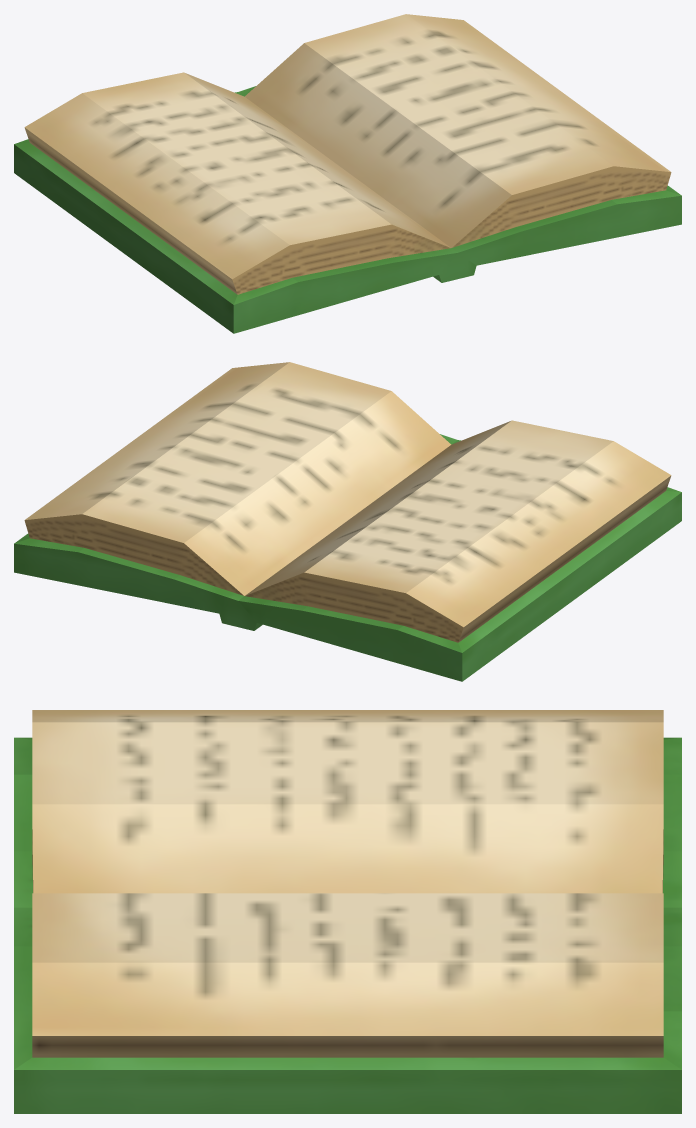
Rendered from book.fbx.
3 renders of one model, top to bottom at view 1: azimuth 30°, elevation 25°; view 2: azimuth 150°, elevation 25°; view 3: azimuth 270°, elevation 25°, orthographic. The views are drawn at different scales.
Parts seen in each view (by area): view 1: Book; view 2: Book; view 3: Book.
Part boxes in pixels (bbox=[...]): Book: bbox=[14, 14, 681, 333]; Book: bbox=[14, 362, 681, 681]; Book: bbox=[14, 710, 681, 1113].
Bounding box in the file's own units: 55.96 × 8.25 × 47.52.
